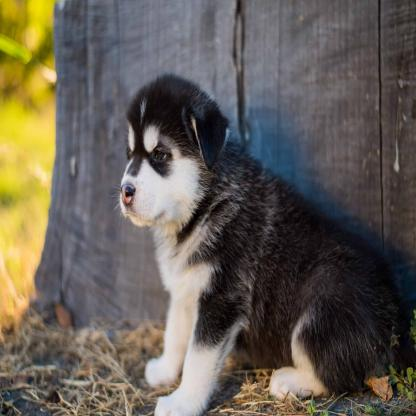dog: (119, 72, 416, 416)
